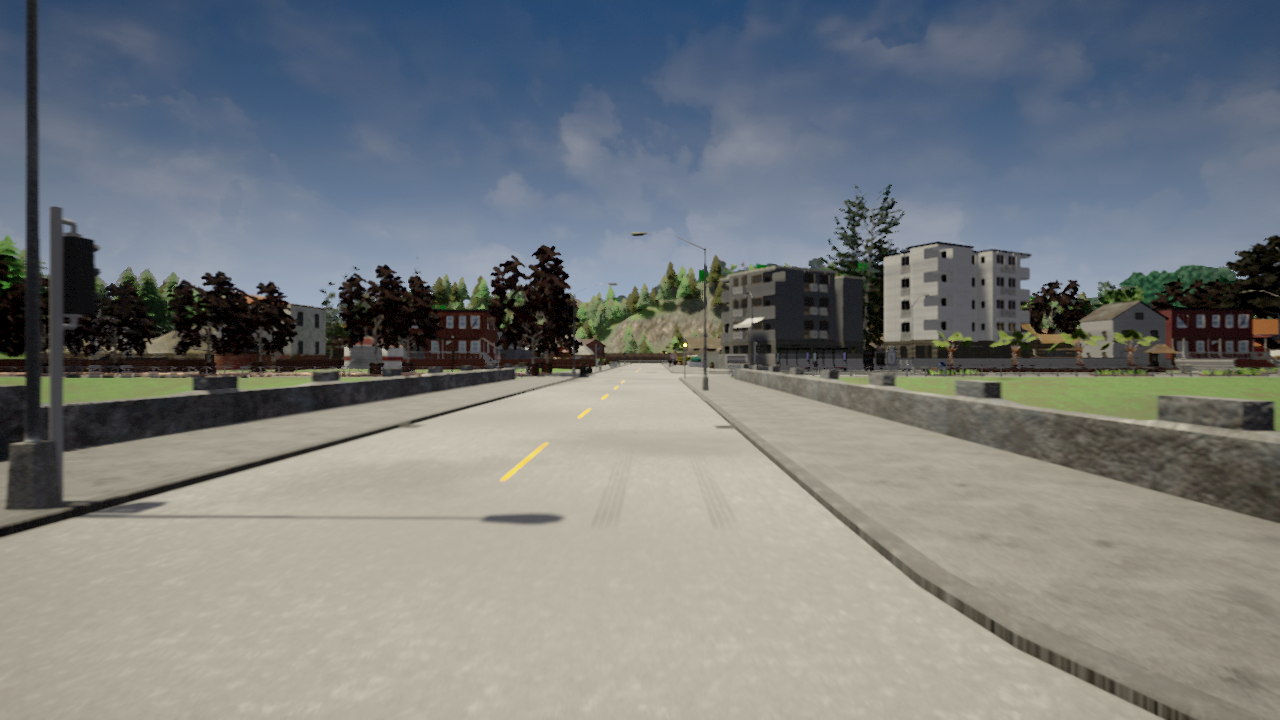yellow: (682, 340, 688, 351)
